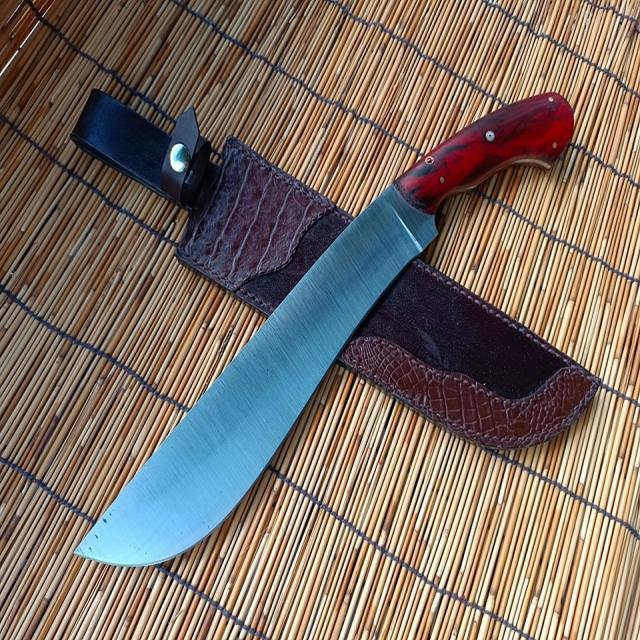eto: (67, 85, 597, 580)
